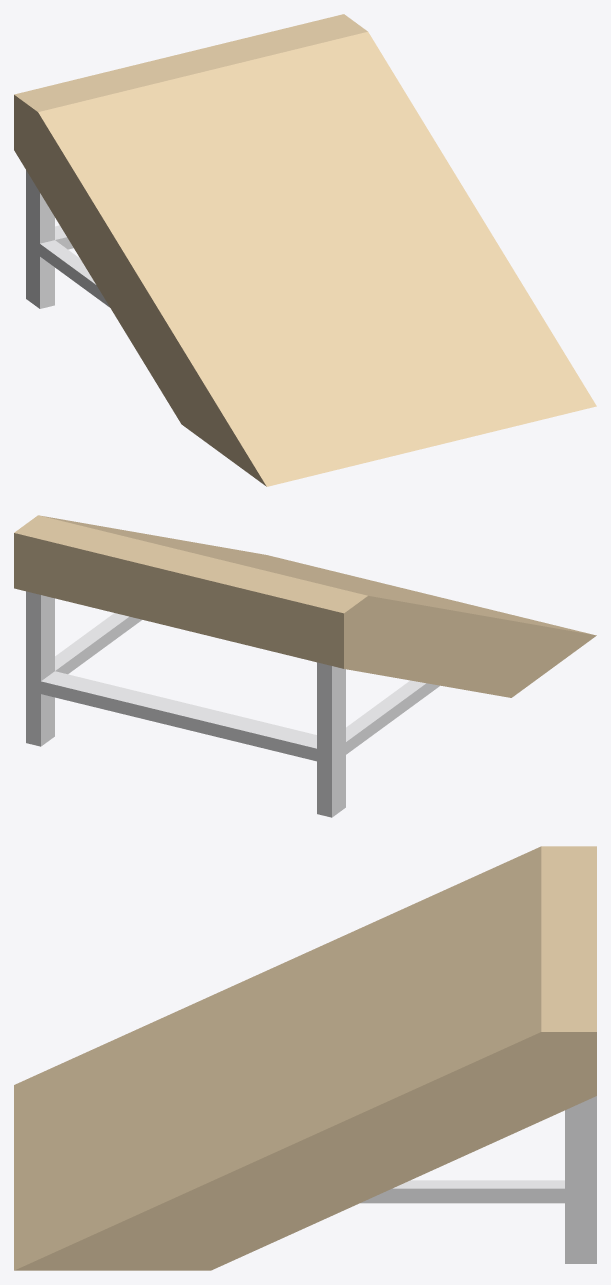
File: ramp.glb
3 renders of one model, top to bottom at view 1: azimuth 30°, elevation 25°; view 2: azimuth 150°, elevation 25°; view 3: azimuth 270°, elevation 25°, orthographic. The views are drawn at different scales.
Visible parts, largest first — view 1: ramp(Clone); view 2: ramp(Clone); view 3: ramp(Clone).
Part boxes in pixels (<box>): ramp(Clone): <box>14,14,596,486</box>; ramp(Clone): <box>14,515,596,817</box>; ramp(Clone): <box>14,846,596,1270</box>.
Size of the model in its own units: 0.55 by 0.33 by 0.73.
Materials: 1 (1 with a texture image).
